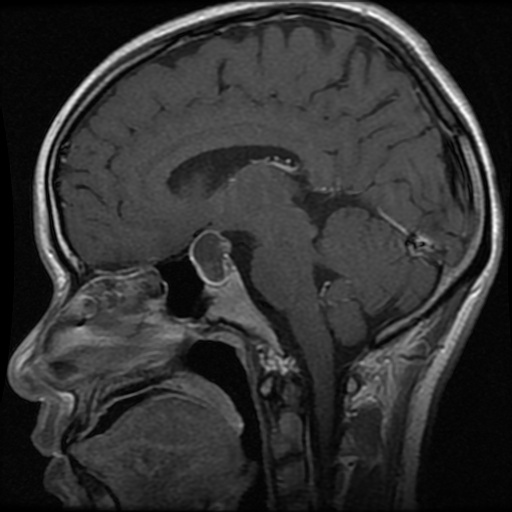pituitary: (193, 230, 230, 285)
